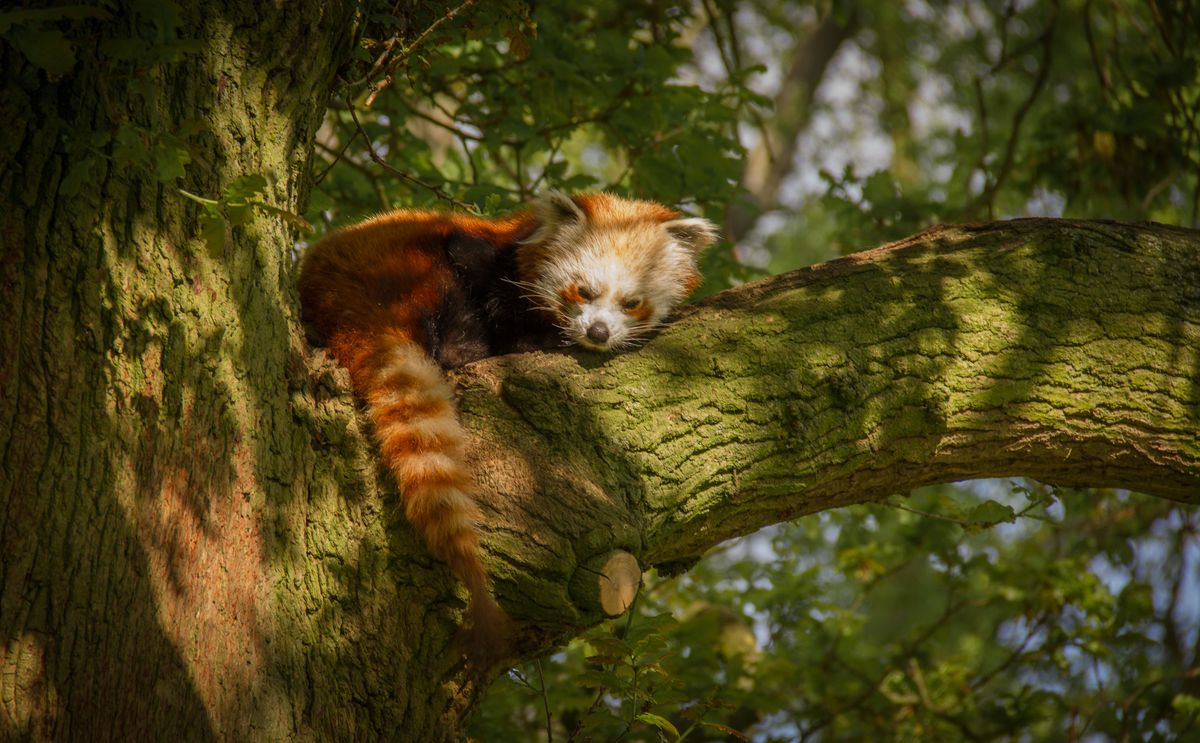red_panda: (289, 182, 725, 660)
